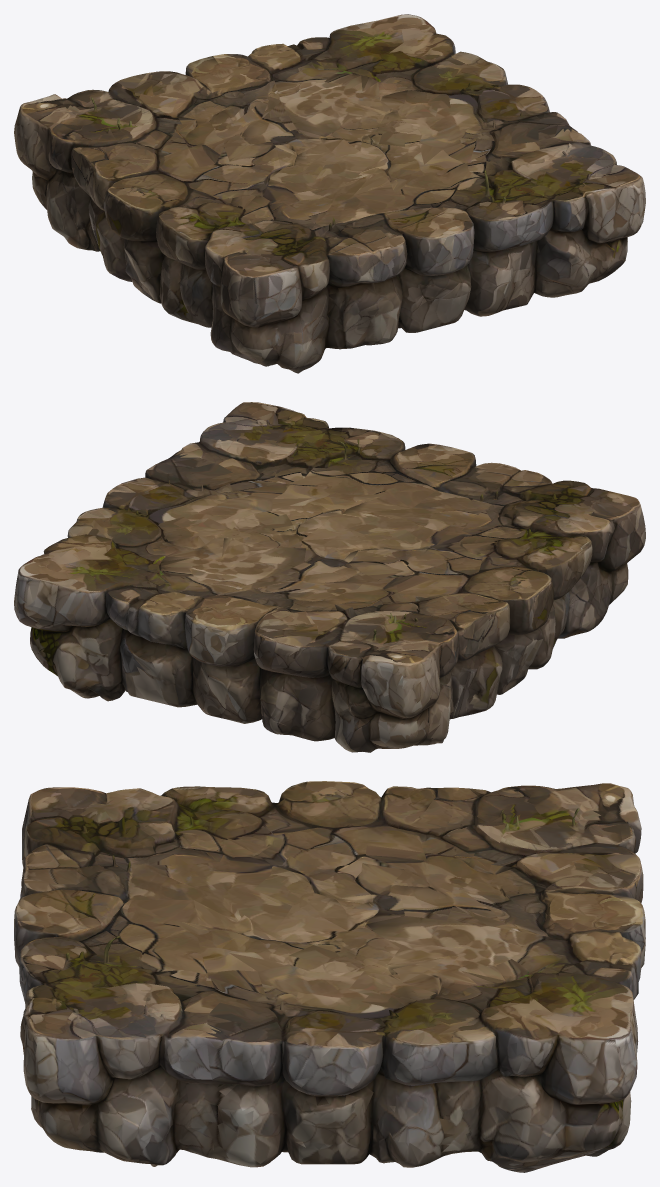
File: Crystal Door.fbx
3 views of the same model, one above another, from view 1: azimuth 30°, elevation 25°; view 2: azimuth 150°, elevation 25°; view 3: azimuth 270°, elevation 25° (orthographic). The views are drawn at different scales.
Parts seen in each view (by area): view 1: tripo_node_4dc112fb; view 2: tripo_node_4dc112fb; view 3: tripo_node_4dc112fb.
Part boxes in pixels (x1,y1,x2,y2): tripo_node_4dc112fb: (14,14,645,373); tripo_node_4dc112fb: (14,402,645,752); tripo_node_4dc112fb: (14,781,645,1172).
Size of the model in its own units: 100 by 32.41 by 99.63.
